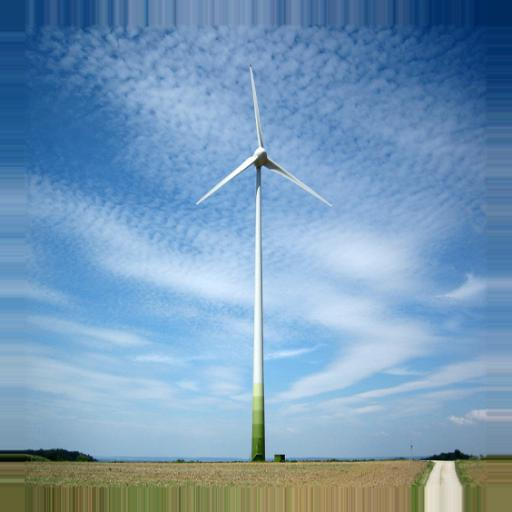wind turbine: (195, 65, 339, 450)
